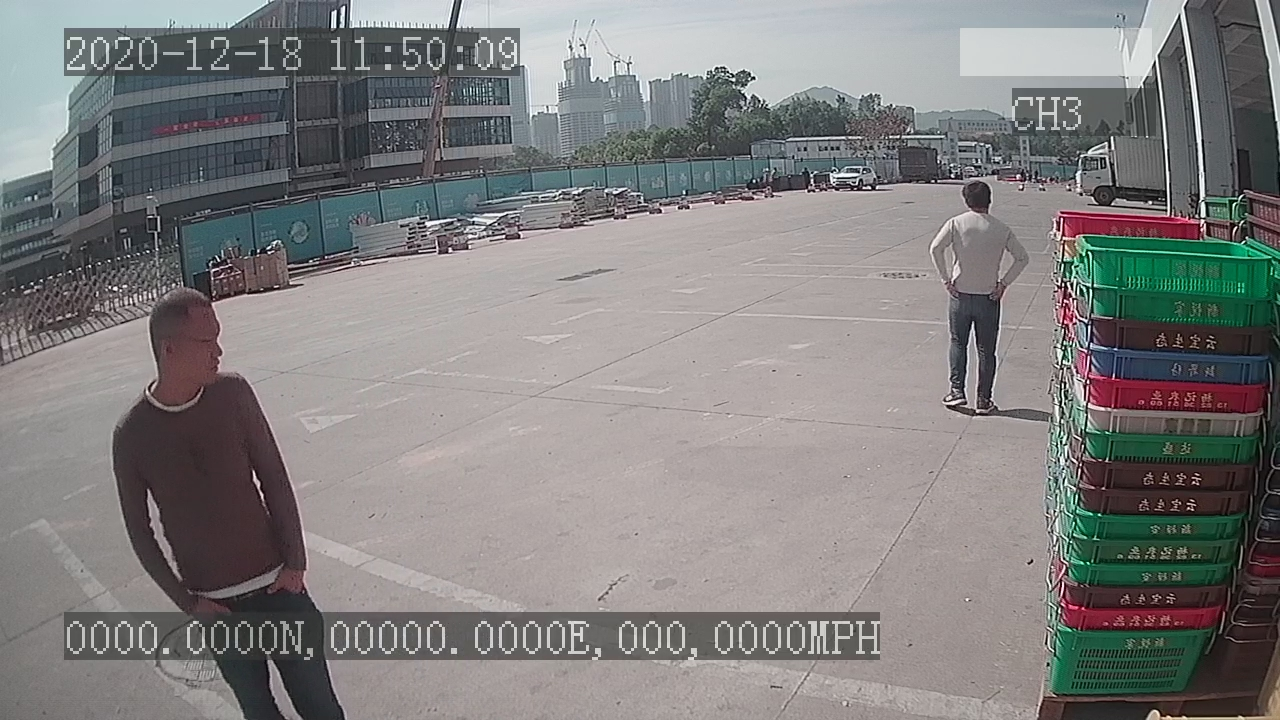person: (922, 179, 1036, 419)
